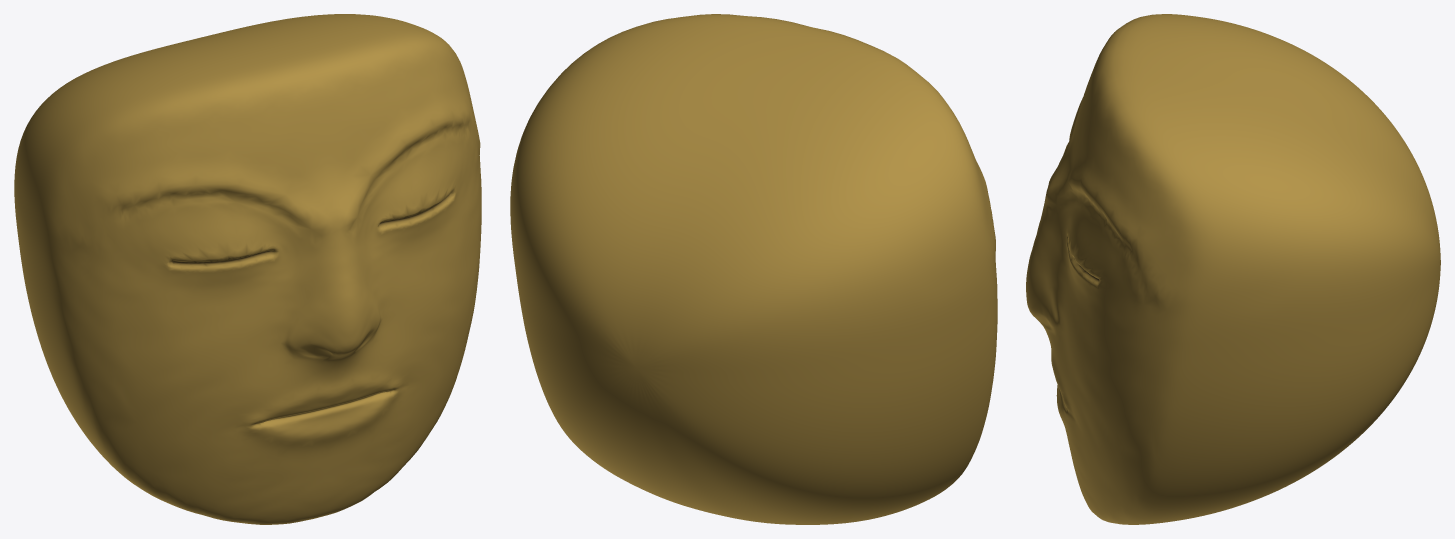
File: closed-face-scaffold.glb
The picture shows the model from 3 angles, left to right: view 1: azimuth 30°, elevation 25°; view 2: azimuth 150°, elevation 25°; view 3: azimuth 270°, elevation 25°; orthographic projection. The views are drawn at different scales.
Visible parts, largest first — view 1: Original-reference-face-scaffold; view 2: Original-reference-face-scaffold; view 3: Original-reference-face-scaffold.
Boxes of the visible parts, <box> form: Original-reference-face-scaffold: <box>14,14,481,524</box>; Original-reference-face-scaffold: <box>510,14,997,524</box>; Original-reference-face-scaffold: <box>1026,14,1440,524</box>.
Bounding box in the file's own units: 0.6548 × 0.6564 × 0.567.
